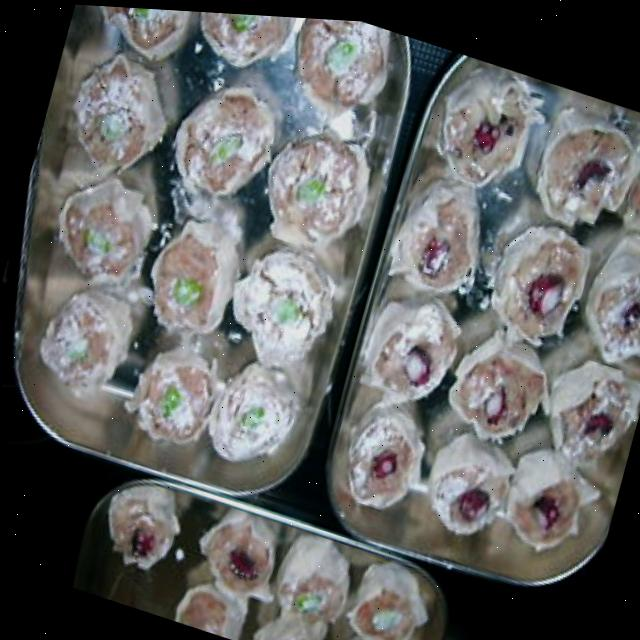带馅早点: (0, 0, 403, 497)
